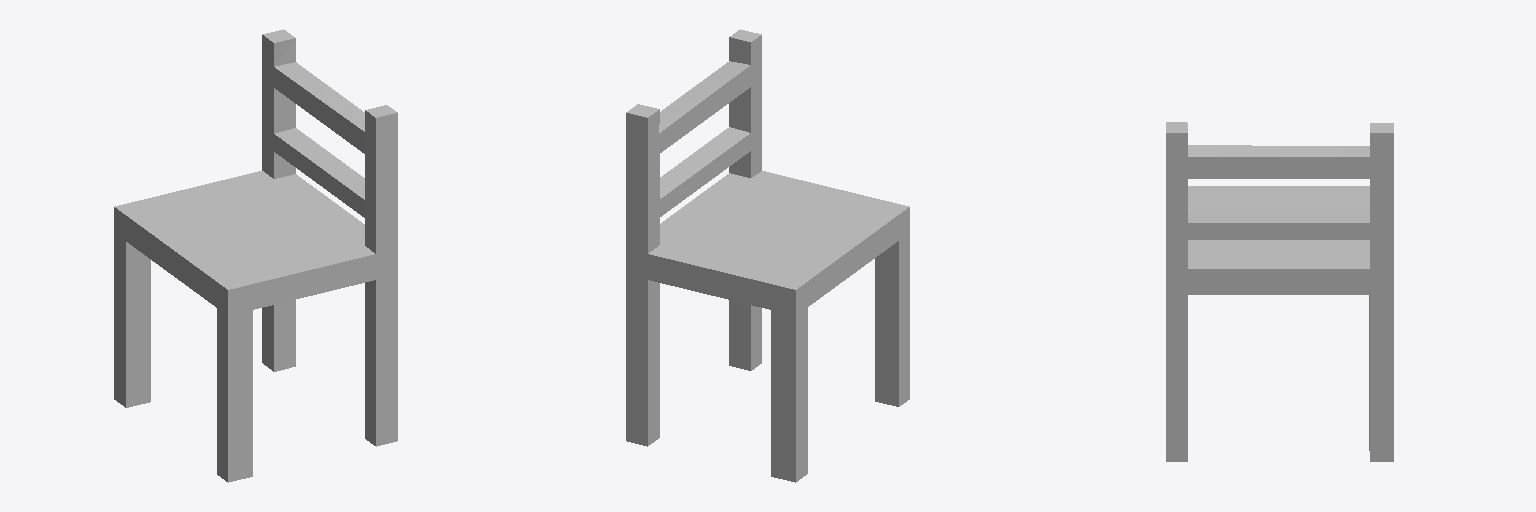
File: chair.obj
The picture shows the model from 3 angles: view 1: azimuth 30°, elevation 25°; view 2: azimuth 150°, elevation 25°; view 3: azimuth 270°, elevation 25°; orthographic projection.
Parts seen in each view (by area): view 1: pCube1; view 2: pCube1; view 3: pCube1.
Boxes of the visible parts, x1=… form: pCube1: x1=114, y1=29, x2=397, y2=482; pCube1: x1=626, y1=29, x2=909, y2=482; pCube1: x1=1166, y1=122, x2=1393, y2=461.
Size of the model in its own units: 2.86 by 5.28 by 3.32.